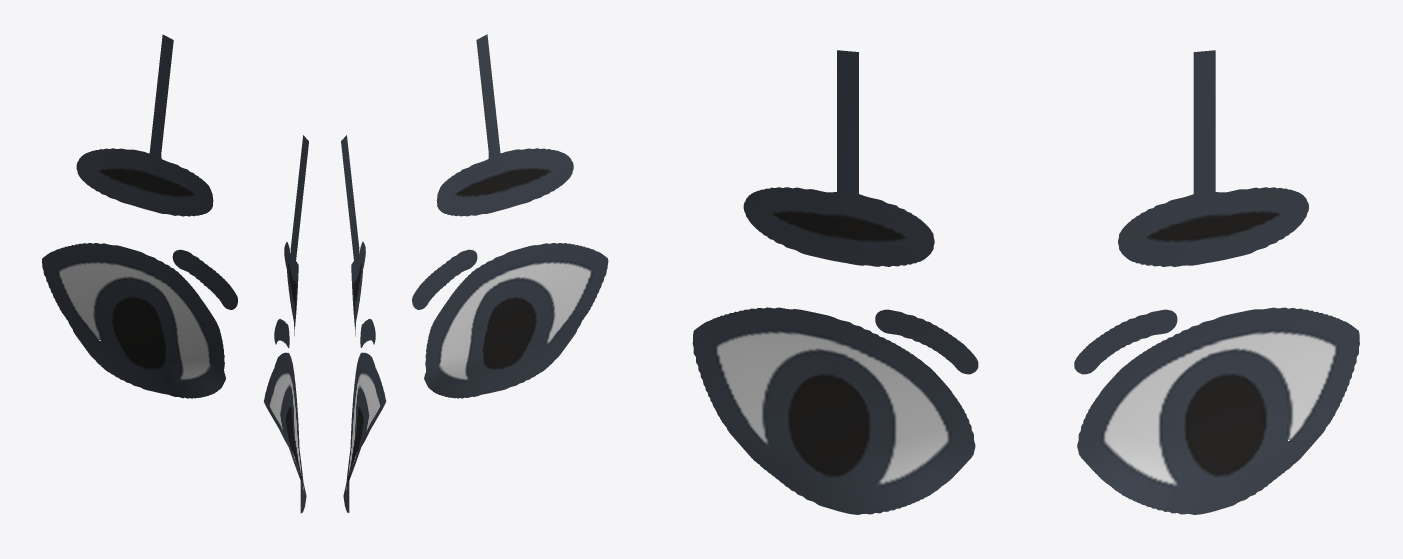
The model's file is Black_Eyes.fbx.
3 views of the same model, side by side, from view 1: azimuth 30°, elevation 25°; view 2: azimuth 150°, elevation 25°; view 3: azimuth 270°, elevation 25° (orthographic). The views are drawn at different scales.
Parts seen in each view (by area): view 1: Black Eyes; view 2: Black Eyes; view 3: Black Eyes.
Boxes of the visible parts, x1,y1,x2,y2 form: Black Eyes: [42, 34, 308, 513]; Black Eyes: [341, 34, 608, 512]; Black Eyes: [692, 50, 1359, 514].
Bounding box in the file's own units: 16.96 × 47.43 × 65.75.
